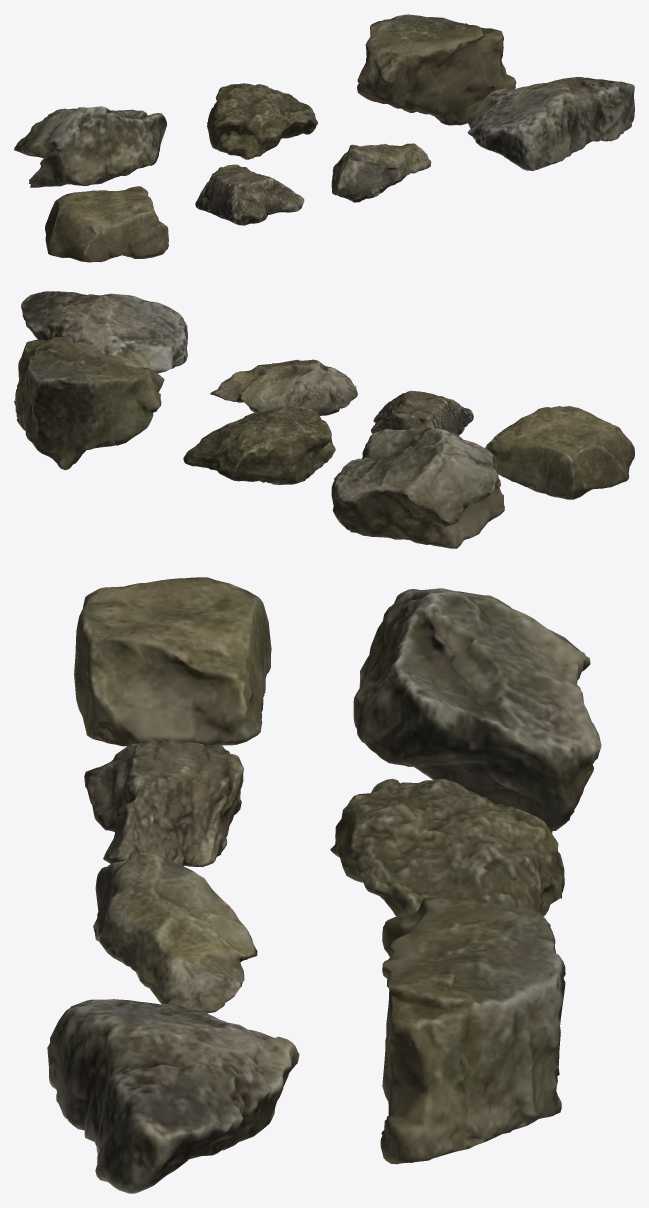
Rendered from rock_moss_set_02.glb.
3 views of the same model, one above another, from view 1: azimuth 30°, elevation 25°; view 2: azimuth 150°, elevation 25°; view 3: azimuth 270°, elevation 25° (orthographic). The views are drawn at different scales.
Parts seen in each view (by area): view 1: rock_moss_set_02_rock08; view 2: rock_moss_set_02_rock08; view 3: rock_moss_set_02_rock08.
Boxes of the visible parts, x1,y1,x2,y2 form: rock_moss_set_02_rock08: (14,14,634,262); rock_moss_set_02_rock08: (14,291,634,548); rock_moss_set_02_rock08: (47,577,601,1193).
Bounding box in the file's own units: 8.28 × 1.37 × 3.41.
1 material, 1 textured.
